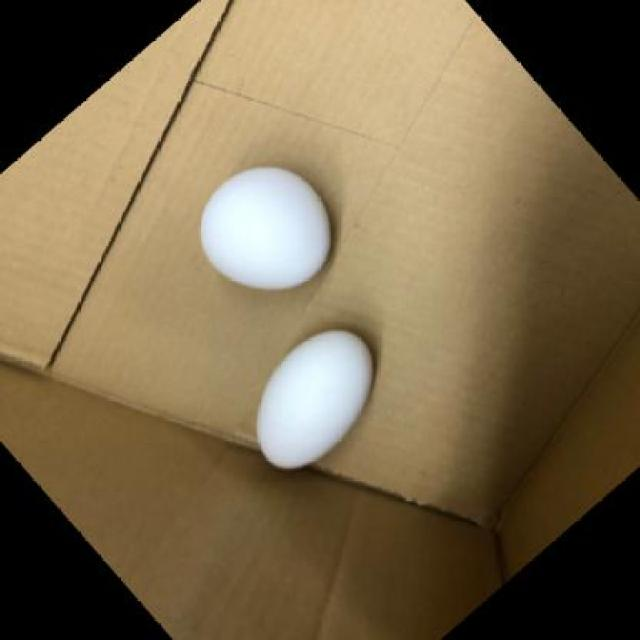egg: (255, 324, 381, 473), (197, 163, 335, 289)
